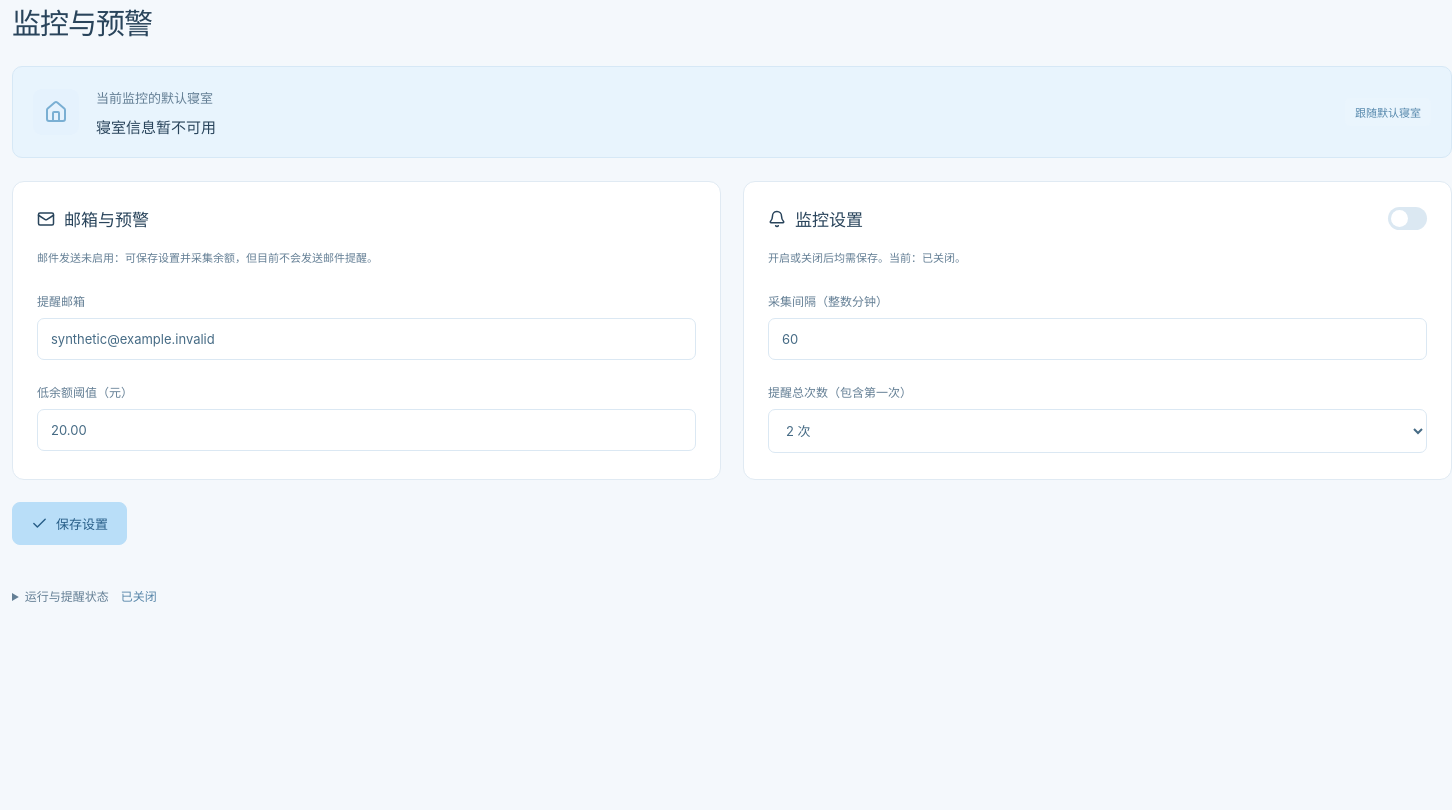
409 OPERATION_IN_PROGRESS 保留对应引导，不要求确认版本
The image size is (1452, 810).
Click the checkbox named "启用监控": (1408, 219) [1388, 207, 1427, 230]
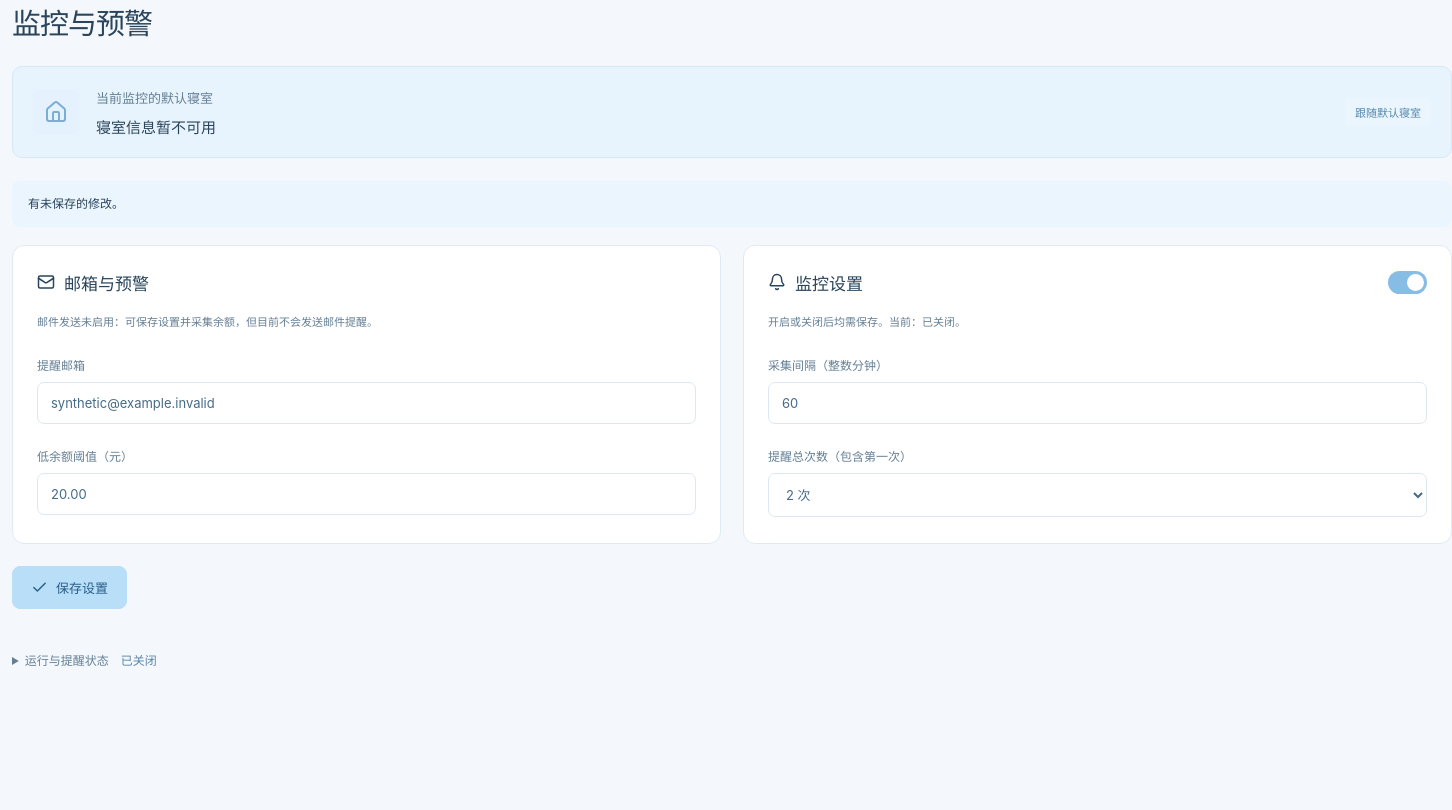
Click the button "保存设置": (70, 587) [12, 566, 127, 609]
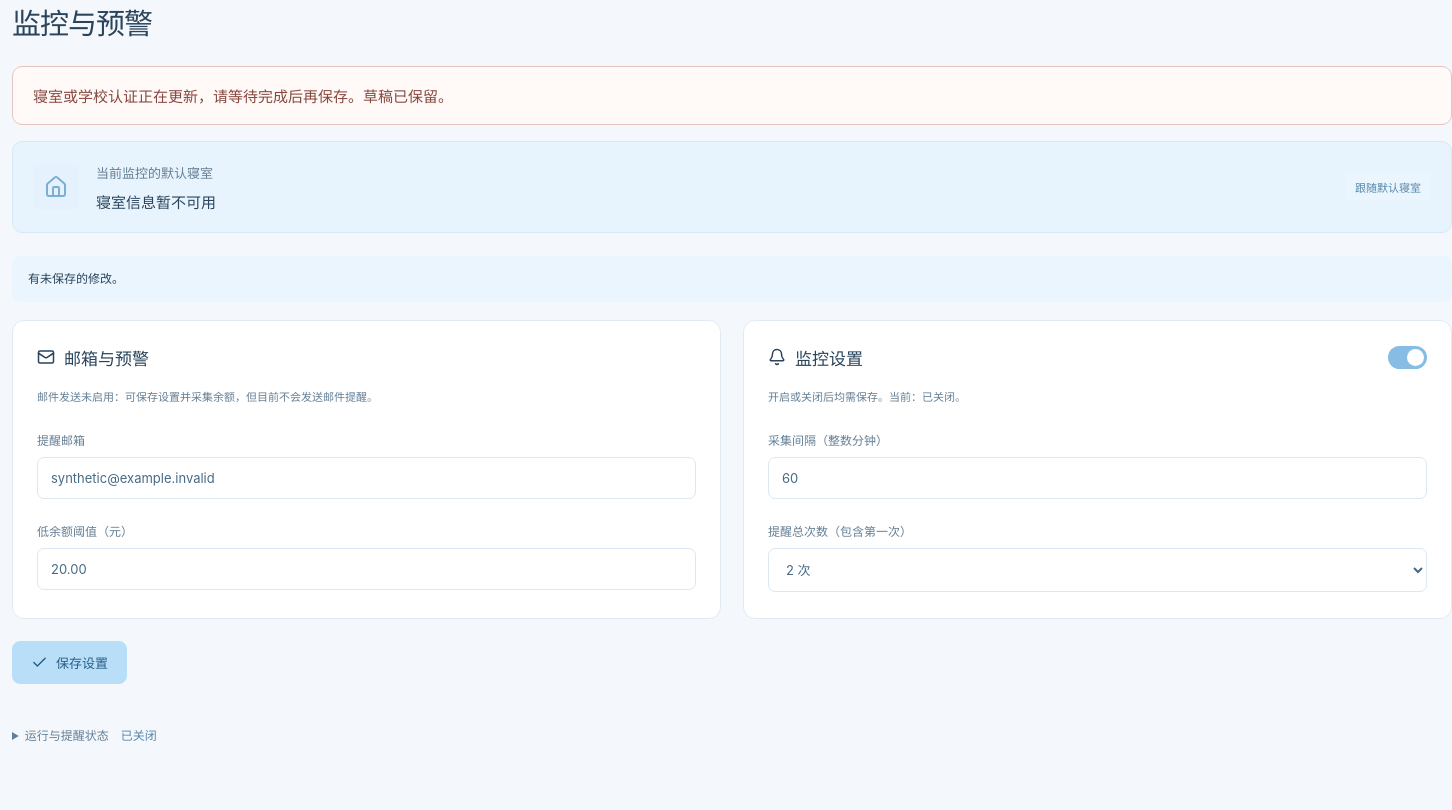
Expected: the checkbox named "启用监控" is checked, [1388, 346, 1427, 369]
Expected: the heading "寝室或学校认证正在更新，请等待完成后再保存。草稿已保留。" is shown, [33, 87, 453, 106]
